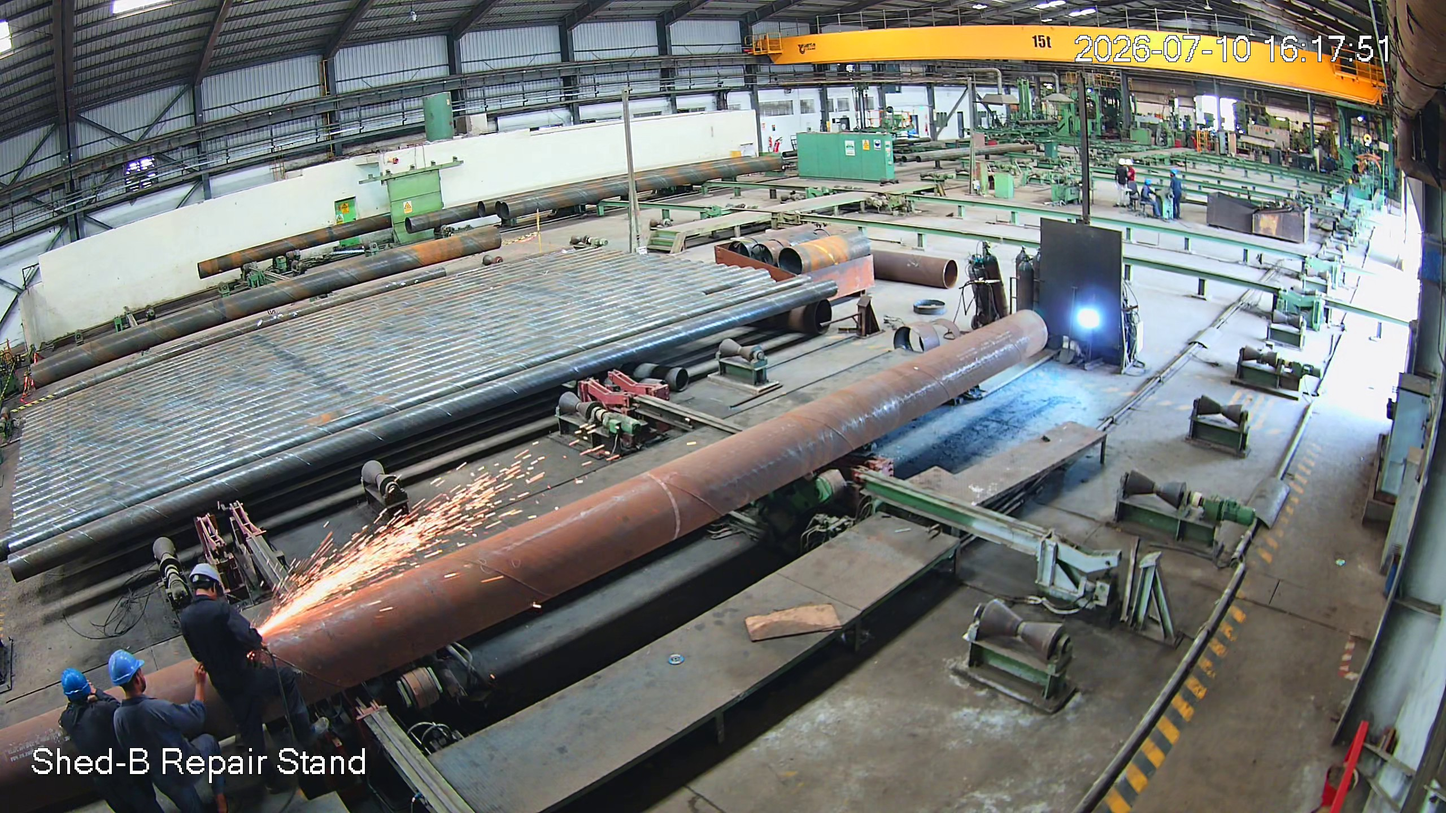Helmet: (179, 560, 239, 626), (96, 643, 154, 702), (52, 652, 98, 722)
Person: (174, 567, 326, 770), (107, 647, 215, 803), (50, 664, 141, 813)
